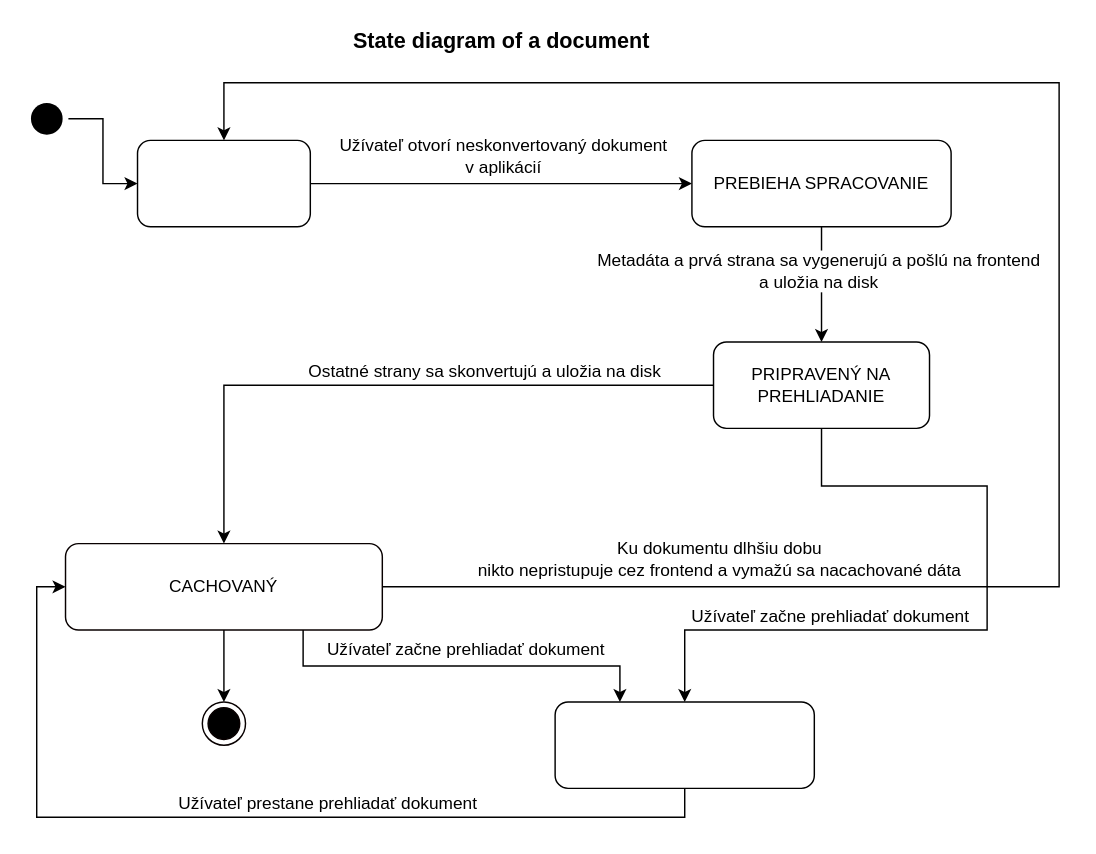
The diagram is 1096 pixels wide and 854 high, and some of its shapes have lost their labels. Here are the shapes that lost their labels. From the top down, the box of each, then its label:
(136, 139, 310, 227): NESPRACOVANÝ
(554, 701, 814, 788): PREHLIADANÝ
